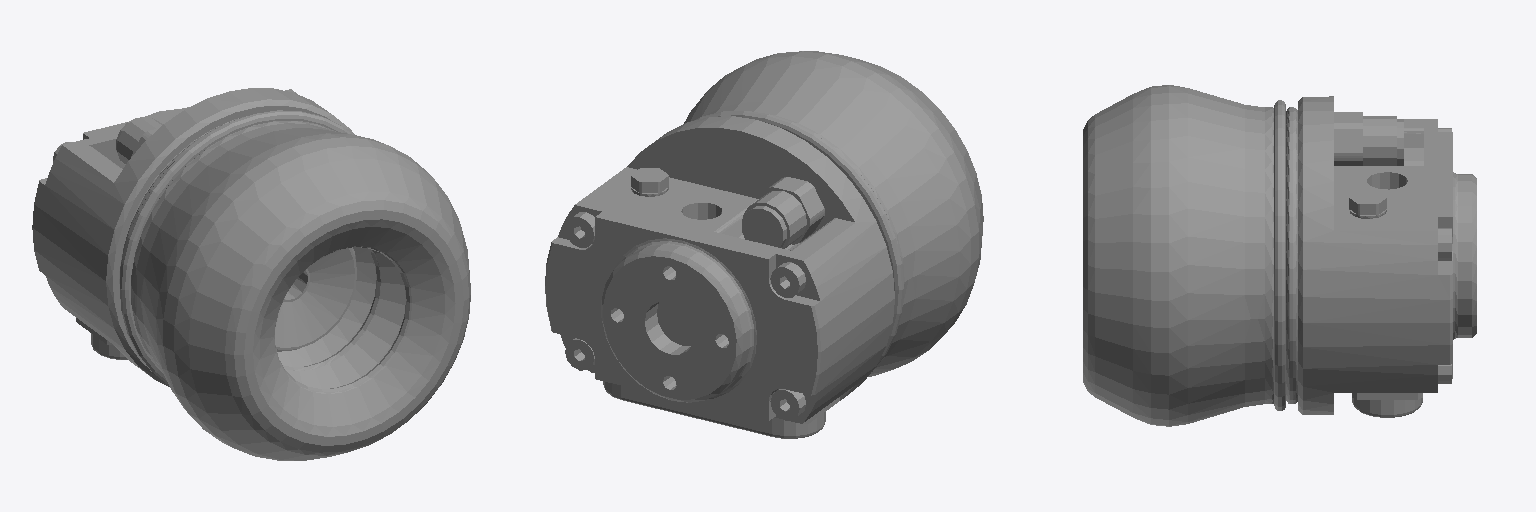
Rendered from SGB1000_v2.obj.
3 renders of one model, left to right at view 1: azimuth 30°, elevation 25°; view 2: azimuth 150°, elevation 25°; view 3: azimuth 270°, elevation 25°, orthographic.
Visible parts, largest first — view 1: ボディ1; view 2: ボディ1; view 3: ボディ1.
Part boxes in pixels (bbox=[...]): ボディ1: bbox=[32, 88, 470, 460]; ボディ1: bbox=[545, 51, 983, 438]; ボディ1: bbox=[1083, 85, 1476, 426].
Size of the model in its own units: 70.66 by 70.73 by 81.43.